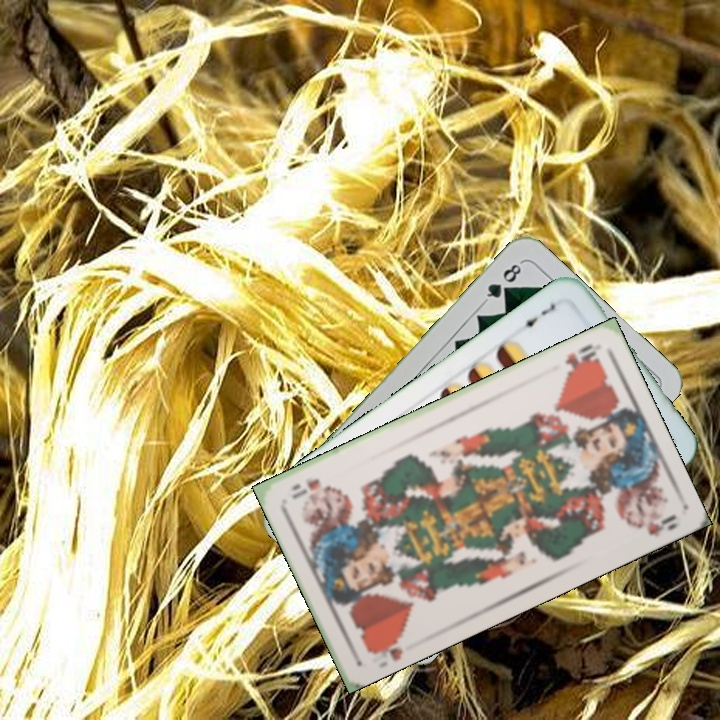E7: (514, 299, 558, 332)
G8: (480, 258, 525, 305)
HO: (560, 340, 602, 376), (363, 630, 406, 663)
